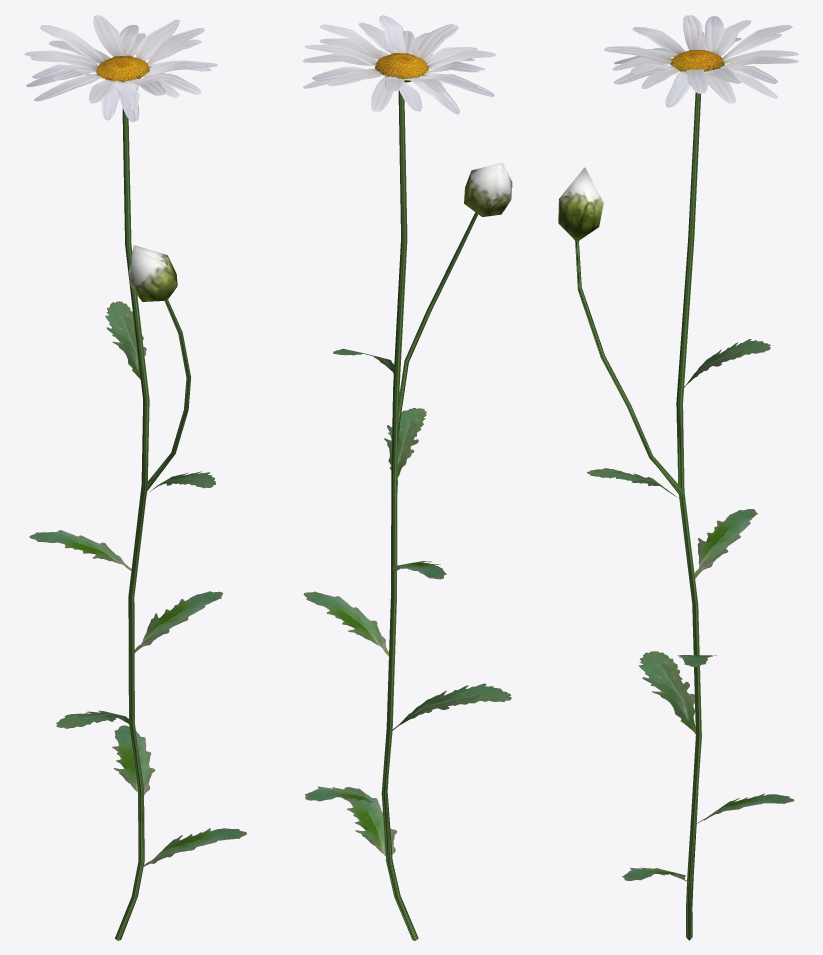
Rendered from Daisy2.fbx.
3 renders of one model, left to right at view 1: azimuth 30°, elevation 25°; view 2: azimuth 150°, elevation 25°; view 3: azimuth 270°, elevation 25°, orthographic.
Parts seen in each view (by area): view 1: Daisy2_LOD0; view 2: Daisy2_LOD0; view 3: Daisy2_LOD0.
Boxes of the visible parts, x1,y1,x2,y2 form: Daisy2_LOD0: [24, 15, 246, 940]; Daisy2_LOD0: [303, 15, 512, 940]; Daisy2_LOD0: [558, 15, 798, 940].
Size of what is drawn, in the model's own units: 24.71 by 97.65 by 24.54.
